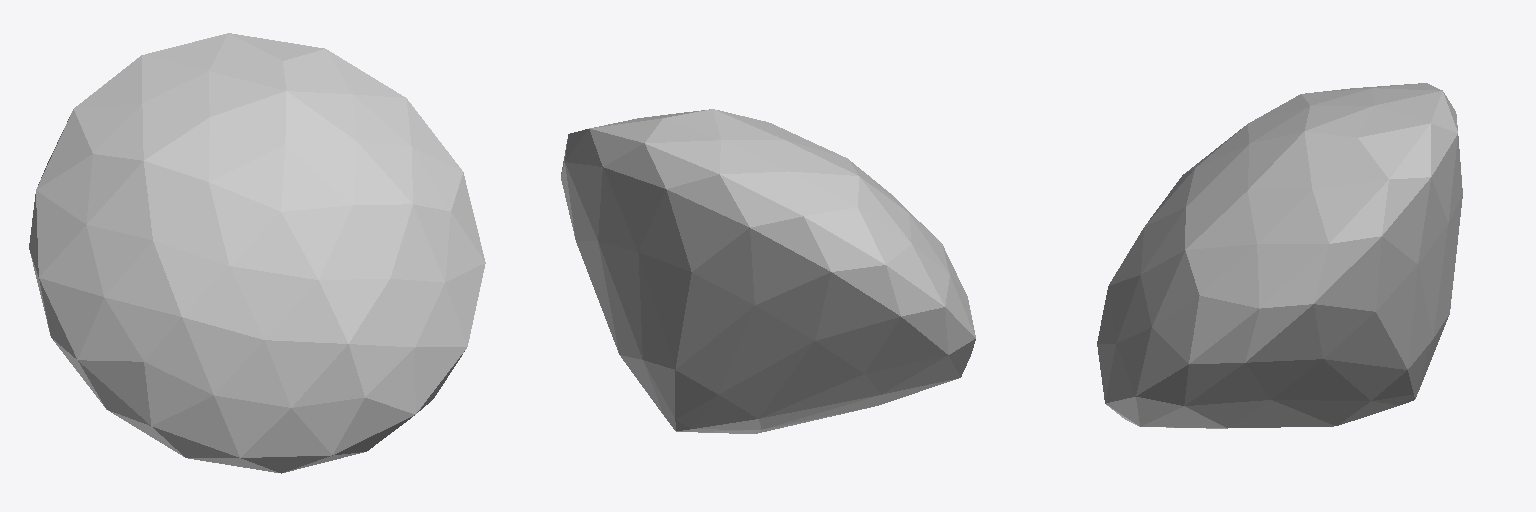
File: stone3.obj
3 renders of one model, left to right at view 1: azimuth 30°, elevation 25°; view 2: azimuth 150°, elevation 25°; view 3: azimuth 270°, elevation 25°, orthographic.
Parts seen in each view (by area): view 1: GeoSphere01; view 2: GeoSphere01; view 3: GeoSphere01.
Part boxes in pixels (bbox=[...]): GeoSphere01: bbox=[29, 33, 485, 473]; GeoSphere01: bbox=[561, 109, 975, 433]; GeoSphere01: bbox=[1097, 83, 1462, 428].
Size of the model in its own units: 1.95 by 1.48 by 1.57.